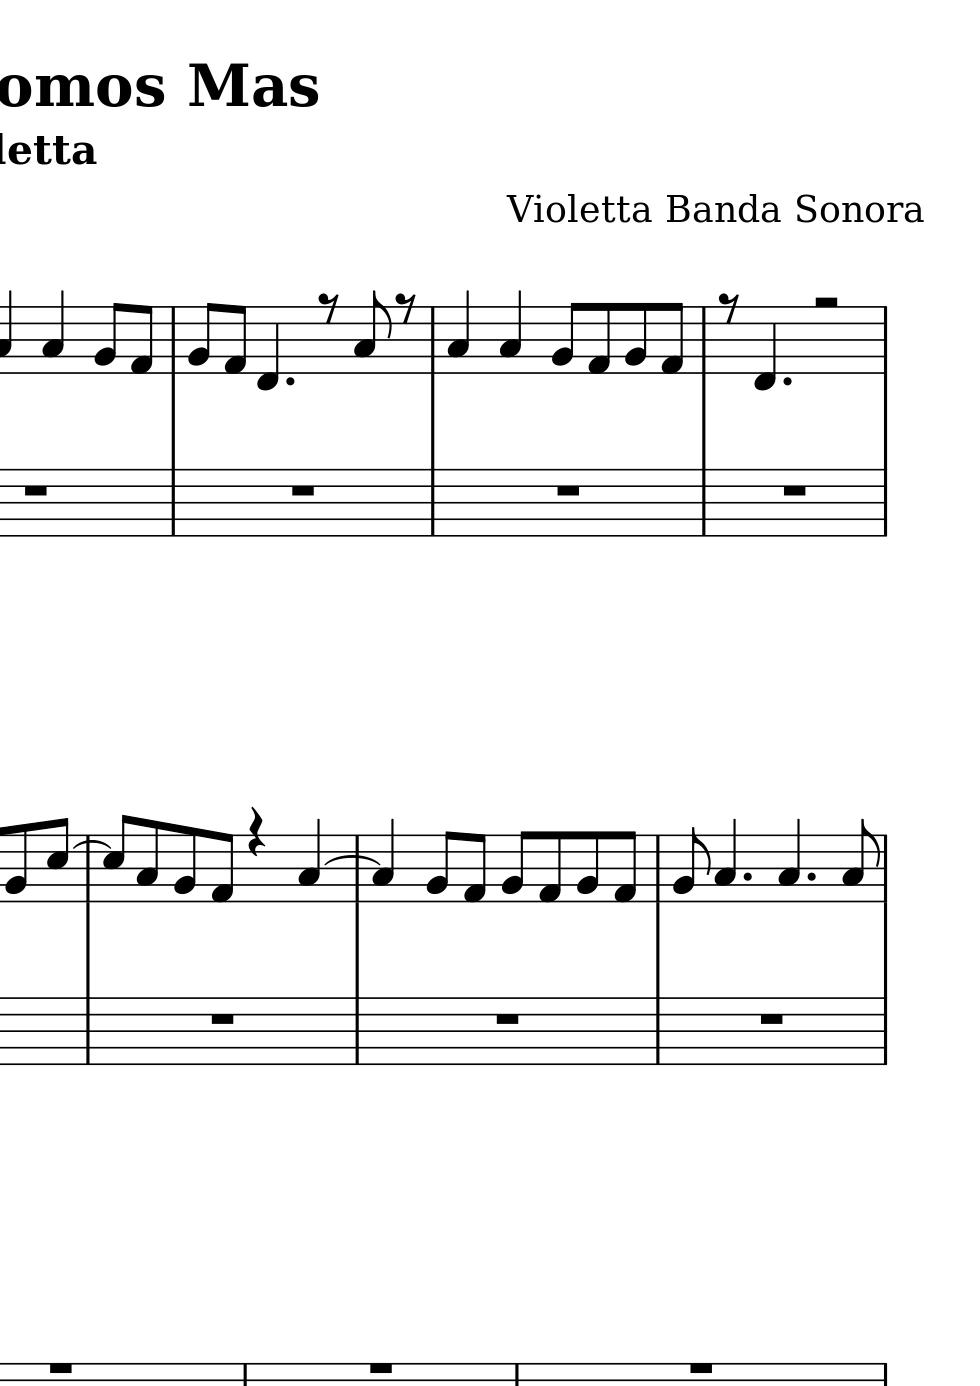4_3: (296, 818, 321, 903), (713, 818, 738, 903), (776, 818, 801, 903), (40, 290, 65, 374), (371, 819, 396, 903), (447, 290, 470, 374), (498, 290, 522, 374)
8_-1: (253, 304, 280, 393), (751, 305, 777, 394)
8_1: (658, 301, 684, 376), (536, 829, 562, 905), (209, 830, 235, 905), (612, 829, 637, 903), (222, 304, 247, 378), (587, 301, 611, 378), (128, 304, 154, 376), (461, 832, 487, 905)
8_2: (671, 826, 708, 903), (498, 829, 530, 903), (185, 301, 215, 375), (423, 829, 454, 903), (91, 301, 122, 374), (549, 301, 580, 374), (2, 823, 28, 903), (172, 824, 197, 903), (622, 301, 647, 375), (574, 829, 599, 903)
8_3: (839, 819, 879, 903), (352, 290, 389, 375), (134, 818, 161, 903)
8_5: (100, 813, 133, 903), (43, 815, 69, 903)
Rests1: (43, 1359, 77, 1378), (553, 481, 583, 499), (365, 1359, 396, 1378), (685, 1359, 716, 1378), (288, 481, 318, 499), (20, 481, 51, 498), (780, 483, 809, 499), (207, 1010, 237, 1027), (493, 1010, 522, 1027), (757, 1010, 786, 1027)
Rests2: (810, 292, 840, 311)
Rests4: (246, 806, 267, 859)
Rests8: (717, 291, 740, 324), (317, 291, 339, 324), (393, 291, 416, 324)
Single_barline: (649, 834, 666, 903), (424, 469, 440, 536), (80, 998, 95, 1065), (349, 998, 365, 1065), (695, 470, 711, 536), (876, 470, 892, 536), (78, 842, 95, 903), (878, 834, 893, 903), (165, 308, 180, 375), (165, 469, 180, 537), (425, 308, 440, 374), (695, 308, 710, 374), (650, 998, 665, 1065), (877, 998, 892, 1065), (877, 308, 892, 373)
Slur: (323, 853, 380, 869), (73, 838, 110, 850)
dot: (740, 869, 754, 883), (781, 374, 793, 388), (805, 869, 817, 883), (283, 374, 296, 387)
